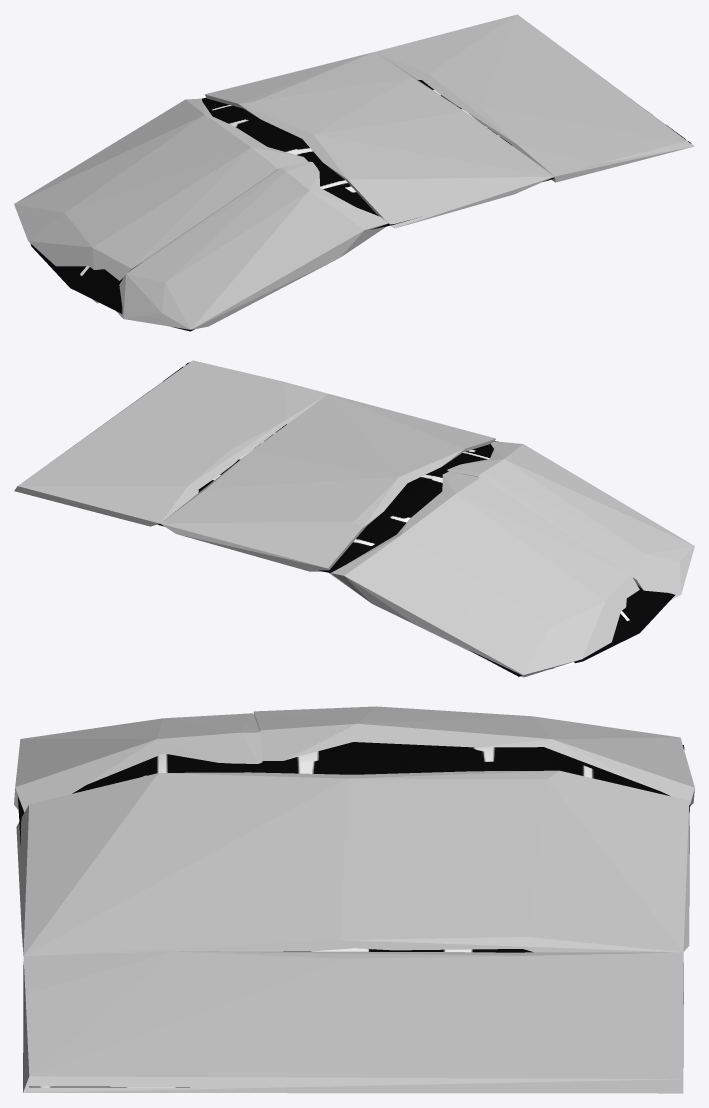
File: SM_Env_Water_Dip_01.fbx
3 views of the same model, one above another, from view 1: azimuth 30°, elevation 25°; view 2: azimuth 150°, elevation 25°; view 3: azimuth 270°, elevation 25° (orthographic). The views are drawn at different scales.
Parts seen in each view (by area): view 1: SM_Env_Water_Dip_01_ConvexHulls, SM_Env_Water_Dip_01; view 2: SM_Env_Water_Dip_01_ConvexHulls, SM_Env_Water_Dip_01; view 3: SM_Env_Water_Dip_01_ConvexHulls, SM_Env_Water_Dip_01.
Part boxes in pixels (left/top/right/bottom): SM_Env_Water_Dip_01_ConvexHulls: left=14, top=14, right=694, bottom=329; SM_Env_Water_Dip_01: left=30, top=80, right=691, bottom=331; SM_Env_Water_Dip_01_ConvexHulls: left=14, top=360, right=694, bottom=677; SM_Env_Water_Dip_01: left=150, top=362, right=674, bottom=676; SM_Env_Water_Dip_01_ConvexHulls: left=14, top=706, right=694, bottom=1093; SM_Env_Water_Dip_01: left=17, top=742, right=690, bottom=1087.
Bounding box in the file's own units: 906 × 524 × 156.
2 materials, 1 textured.
